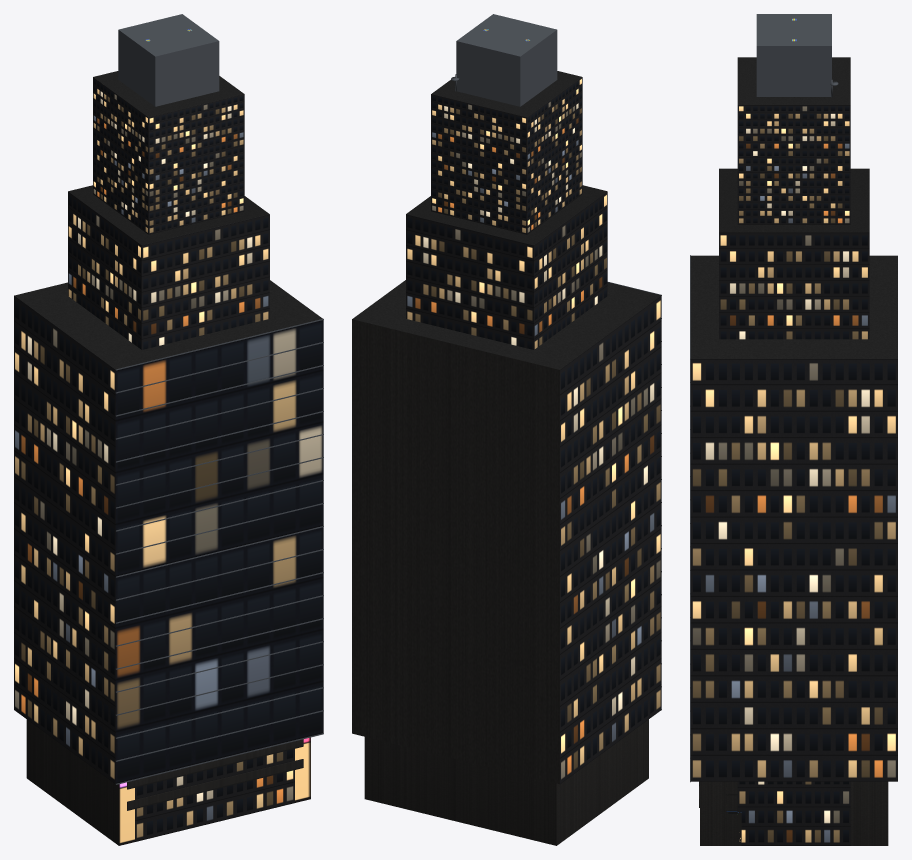
Rendered from building-kit.glb.
The picture shows the model from 3 angles, left to right: view 1: azimuth 30°, elevation 25°; view 2: azimuth 150°, elevation 25°; view 3: azimuth 270°, elevation 25°; orthographic projection.
Parts seen in each view (by area): view 1: BLD_05, BLD_06, BLD_04; view 2: BLD_05, BLD_06; view 3: BLD_05, BLD_06, BLD_03.
Boxes of the visible parts, bbox=[...] form: BLD_05: bbox=[14, 280, 323, 845]; BLD_06: bbox=[68, 14, 294, 841]; BLD_04: bbox=[127, 739, 303, 810]; BLD_05: bbox=[352, 280, 661, 845]; BLD_06: bbox=[406, 14, 607, 349]; BLD_05: bbox=[690, 255, 897, 845]; BLD_06: bbox=[719, 14, 869, 339]; BLD_03: bbox=[726, 781, 850, 845].
Bounding box in the file's own units: 26 × 90 × 22.06.
1 material, 1 textured.
